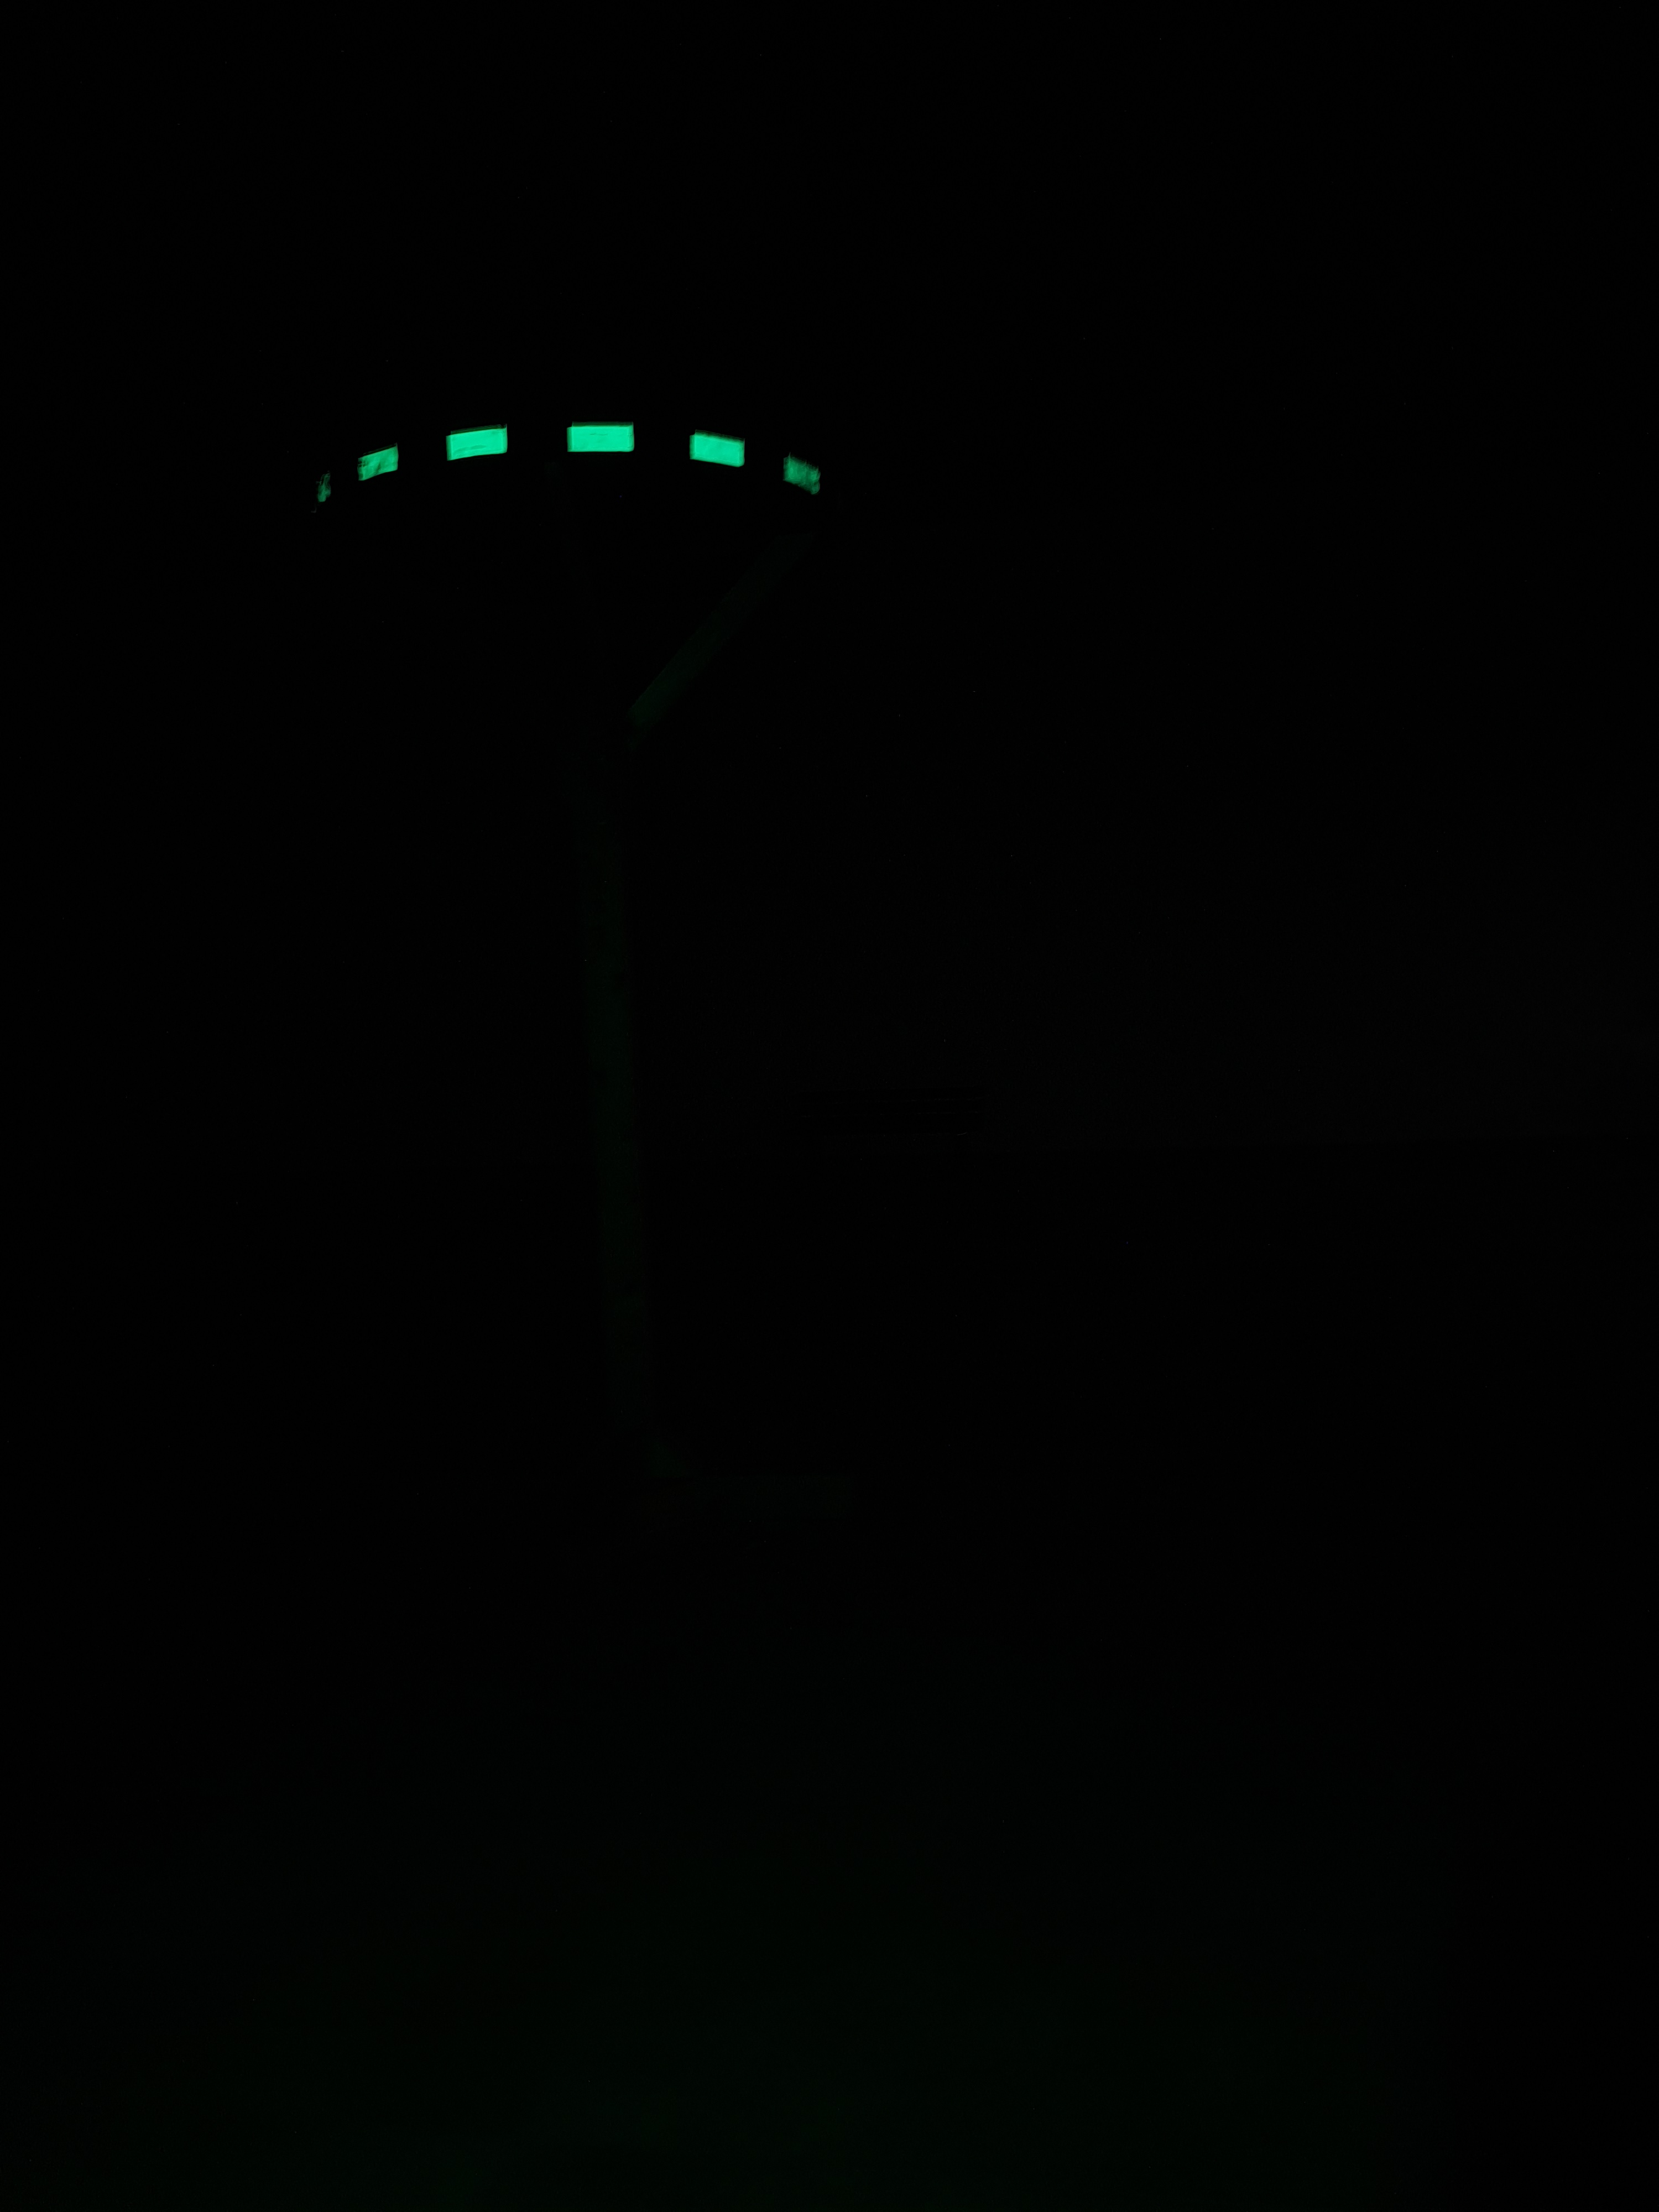hoop: (301, 418, 828, 529)
